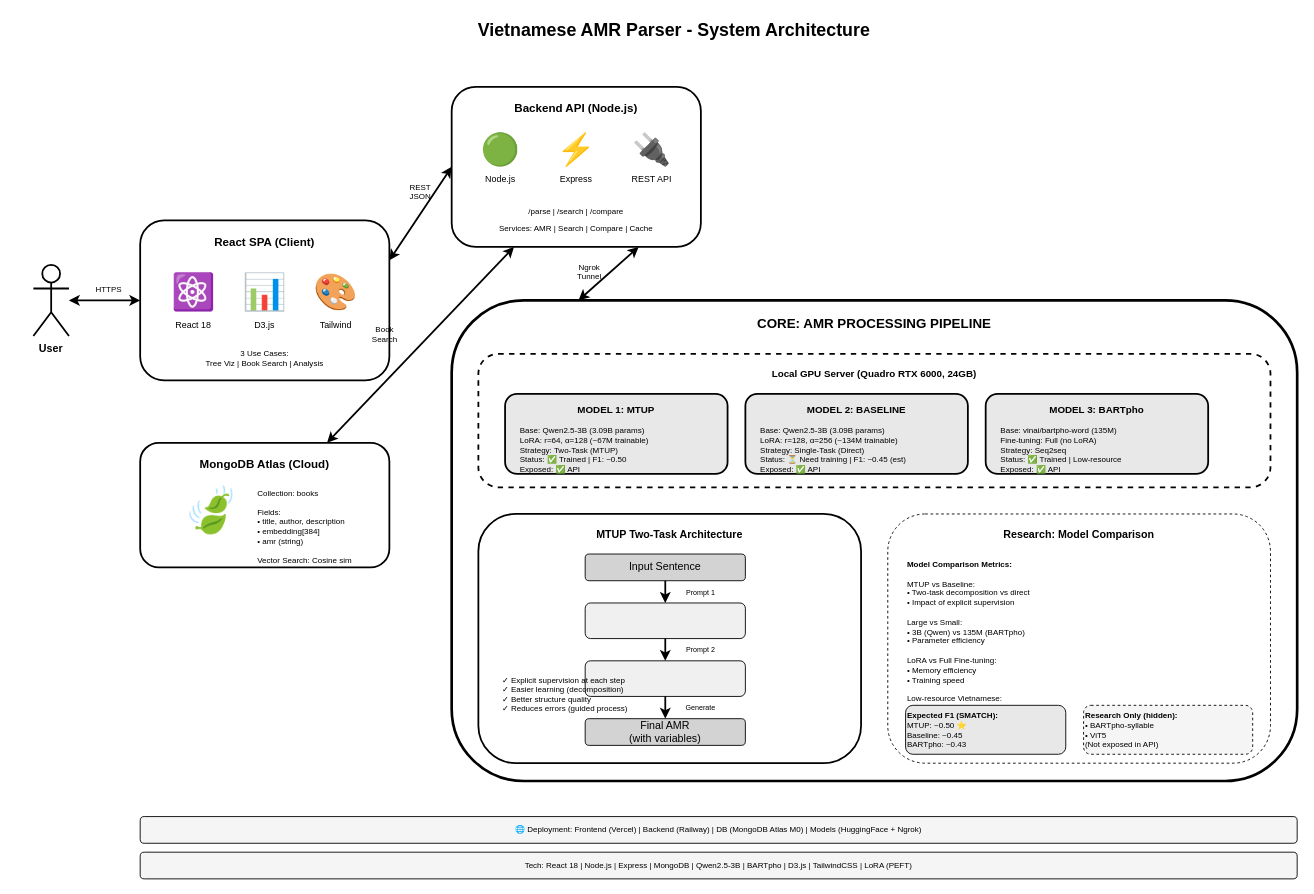
Image size: 1314x894. Some labels were removed from this diagram. Here are the shapes that lost their labels. From the top down, the box of each, then its label:
(584, 602, 745, 639): Task 1: AMR Structure (no variables)
(584, 660, 745, 696): Task 2: Variable Binding (complete AMR)
